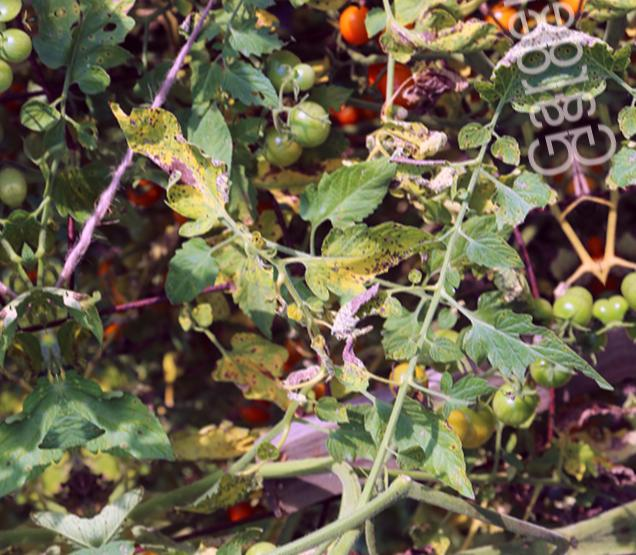Tomato Early blight leaf: (107, 75, 245, 252), (58, 359, 176, 478), (296, 206, 439, 304), (32, 0, 160, 103), (390, 374, 476, 506), (210, 325, 296, 417), (223, 247, 285, 343)
Tomato leaf: (292, 148, 410, 240)
